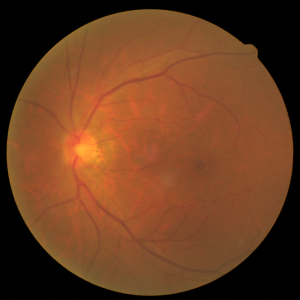healthy_eye: (34, 103, 230, 205)
